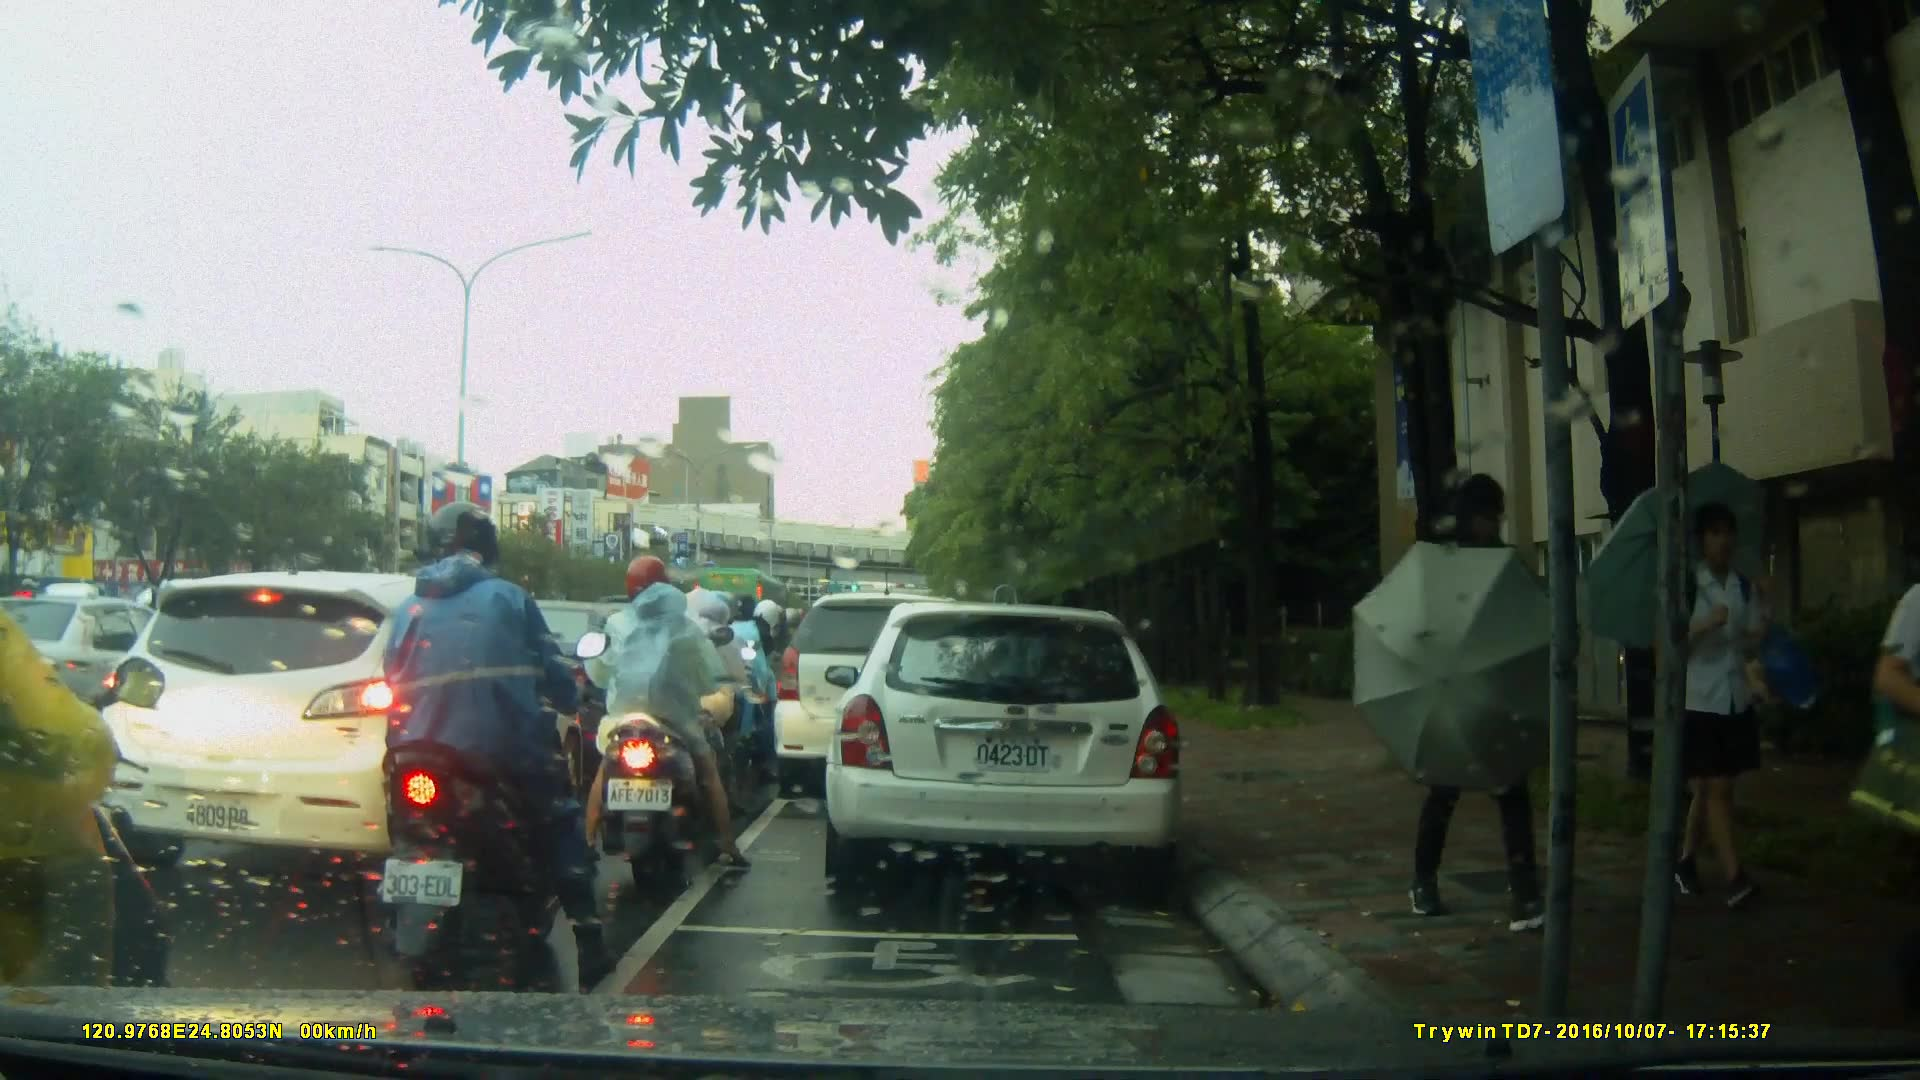pedestrian: (1440, 458, 1586, 948), (1657, 494, 1783, 928), (1839, 517, 1920, 1030)
rider: (375, 504, 614, 975), (1, 455, 180, 1080), (589, 560, 749, 880), (641, 580, 764, 823), (714, 594, 788, 768)
vehicle: (99, 570, 617, 885), (822, 604, 1188, 883), (774, 595, 995, 802), (20, 596, 209, 732)
